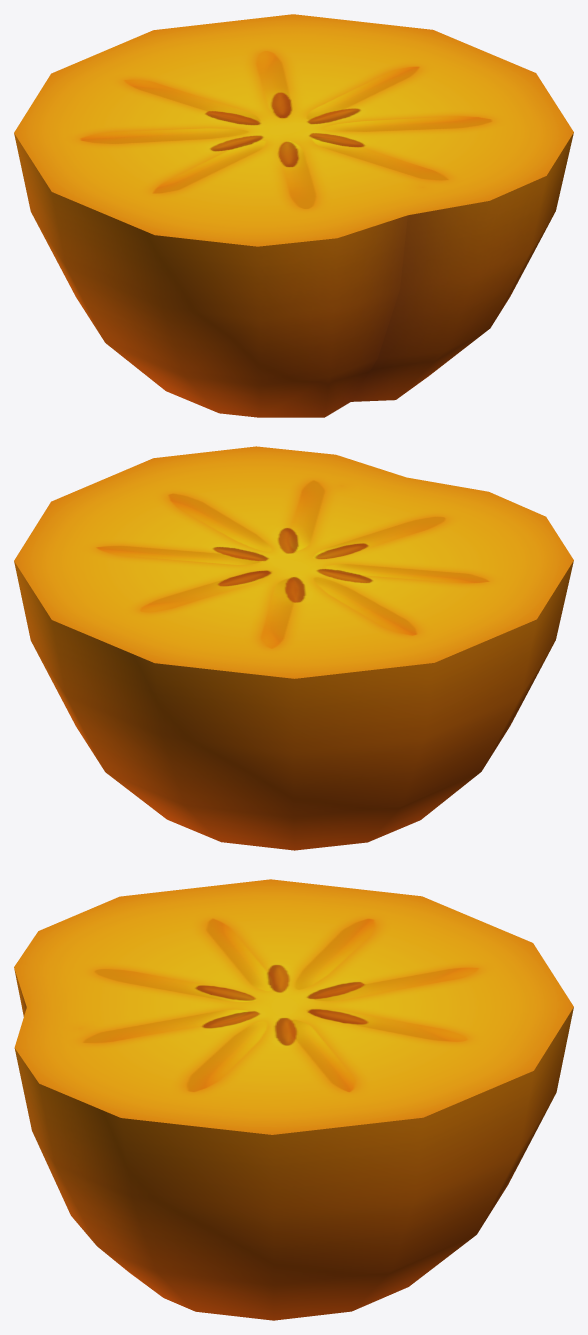
The model's file is Persimmon_Yellow_Half.fbx.
3 renders of one model, top to bottom at view 1: azimuth 30°, elevation 25°; view 2: azimuth 150°, elevation 25°; view 3: azimuth 270°, elevation 25°, orthographic. The views are drawn at different scales.
Visible parts, largest first — view 1: Persimmon_Yellow_Half; view 2: Persimmon_Yellow_Half; view 3: Persimmon_Yellow_Half.
Part boxes in pixels (x1,y1,x2,y2): Persimmon_Yellow_Half: (14, 14, 573, 417); Persimmon_Yellow_Half: (14, 446, 573, 850); Persimmon_Yellow_Half: (14, 879, 573, 1320).
Size of the model in its own units: 28.28 by 14.8 by 26.18.
1 material, 1 textured.
